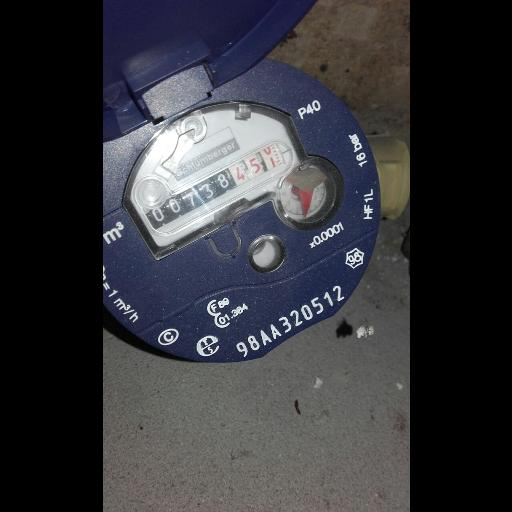0: (147, 203, 170, 229), (163, 195, 185, 221)
1: (258, 144, 280, 170)
3: (195, 177, 218, 203)
4: (227, 160, 249, 186)
5: (243, 153, 264, 179)
7: (178, 187, 200, 212)
8: (211, 169, 235, 196)
border_water_meter_number: (141, 135, 298, 239)
